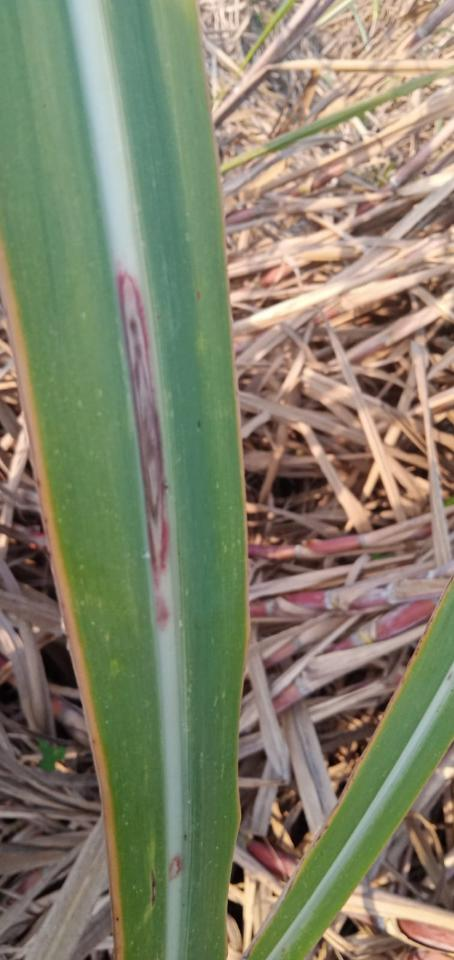RedRot: (116, 272, 169, 629), (147, 849, 183, 911)
